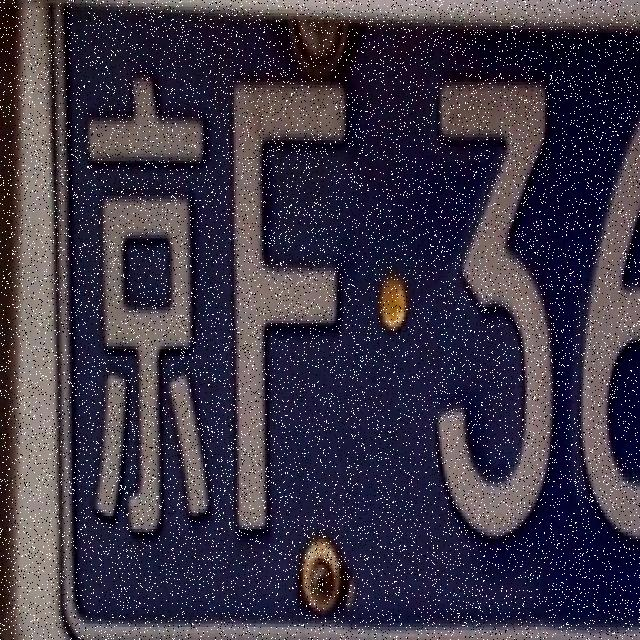licenseplate: (50, 0, 640, 630)
